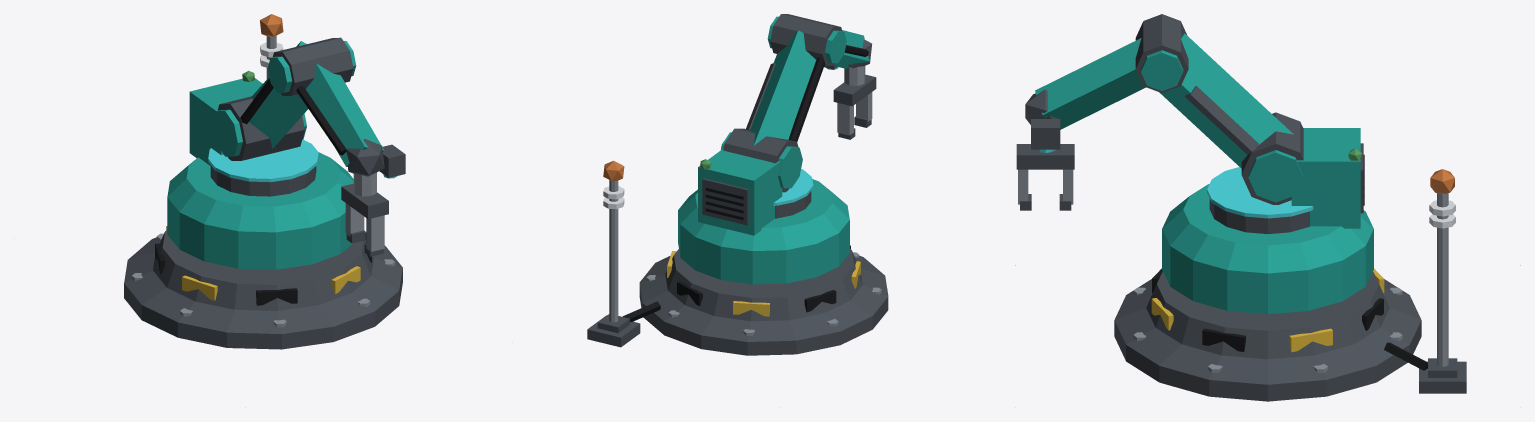
File: bras_t3.glb
3 renders of one model, left to right at view 1: azimuth 30°, elevation 25°; view 2: azimuth 150°, elevation 25°; view 3: azimuth 270°, elevation 25°, orthographic. The views are drawn at different scales.
Parts seen in each view (by area): view 1: socle_embase.004, tourelle_corps.004, tourelle_bras_t3.002, tourelle_acier_sombre.006, tourelle_cyan.002, tourelle_acier.006, tourelle_noir.006, socle_jaune.004, socle_noir.006, socle_acier.006; view 2: socle_embase.004, tourelle_corps.004, tourelle_bras_t3.002, tourelle_acier_sombre.006, tourelle_noir.006, socle_acier.006, tourelle_acier.006, socle_acier_sombre.006, socle_noir.006, socle_jaune.004, tourelle_cyan.002, socle_blanc.004; view 3: socle_embase.004, tourelle_bras_t3.002, tourelle_corps.004, tourelle_acier_sombre.006, tourelle_cyan.002, socle_acier.006, socle_noir.006, socle_acier_sombre.006, socle_jaune.004, tourelle_acier.006, socle_blanc.004, socle_cuivre.004.
Part boxes in pixels (box(x1,y1,x2,y2)): socle_embase.004: box(124, 229, 402, 349); tourelle_corps.004: box(167, 152, 353, 269); tourelle_bras_t3.002: box(189, 41, 384, 166); tourelle_acier_sombre.006: box(210, 37, 405, 256); tourelle_cyan.002: box(208, 139, 397, 182); tourelle_acier.006: box(345, 172, 384, 251); tourelle_noir.006: box(240, 78, 346, 155); socle_jaune.004: box(166, 226, 360, 300); socle_noir.006: box(155, 232, 371, 305); socle_acier.006: box(131, 35, 395, 327); socle_embase.004: box(639, 249, 888, 355); tourelle_corps.004: box(678, 179, 849, 284); tourelle_bras_t3.002: box(698, 16, 869, 235); tourelle_acier_sombre.006: box(702, 14, 876, 225); tourelle_noir.006: box(705, 45, 868, 219); socle_acier.006: box(609, 180, 881, 335); tourelle_acier.006: box(837, 66, 872, 135); socle_acier_sombre.006: box(587, 314, 640, 347); socle_noir.006: box(622, 245, 850, 322); socle_jaune.004: box(667, 251, 860, 316); tourelle_cyan.002: box(773, 67, 838, 205); socle_blanc.004: box(603, 186, 624, 209); socle_embase.004: box(1114, 271, 1421, 401); tourelle_bras_t3.002: box(1035, 33, 1360, 228); tourelle_corps.004: box(1162, 184, 1373, 314); tourelle_acier_sombre.006: box(1016, 14, 1363, 233); tourelle_cyan.002: box(1038, 149, 1313, 218); socle_acier.006: box(1133, 193, 1448, 372); socle_noir.006: box(1152, 268, 1427, 370); socle_acier_sombre.006: box(1419, 358, 1466, 393); socle_jaune.004: box(1151, 268, 1384, 352); tourelle_acier.006: box(1018, 149, 1073, 204); socle_blanc.004: box(1429, 200, 1455, 228); socle_cuivre.004: box(1430, 169, 1454, 193).
Size of the model in its own units: 1 by 1 by 1.5.
